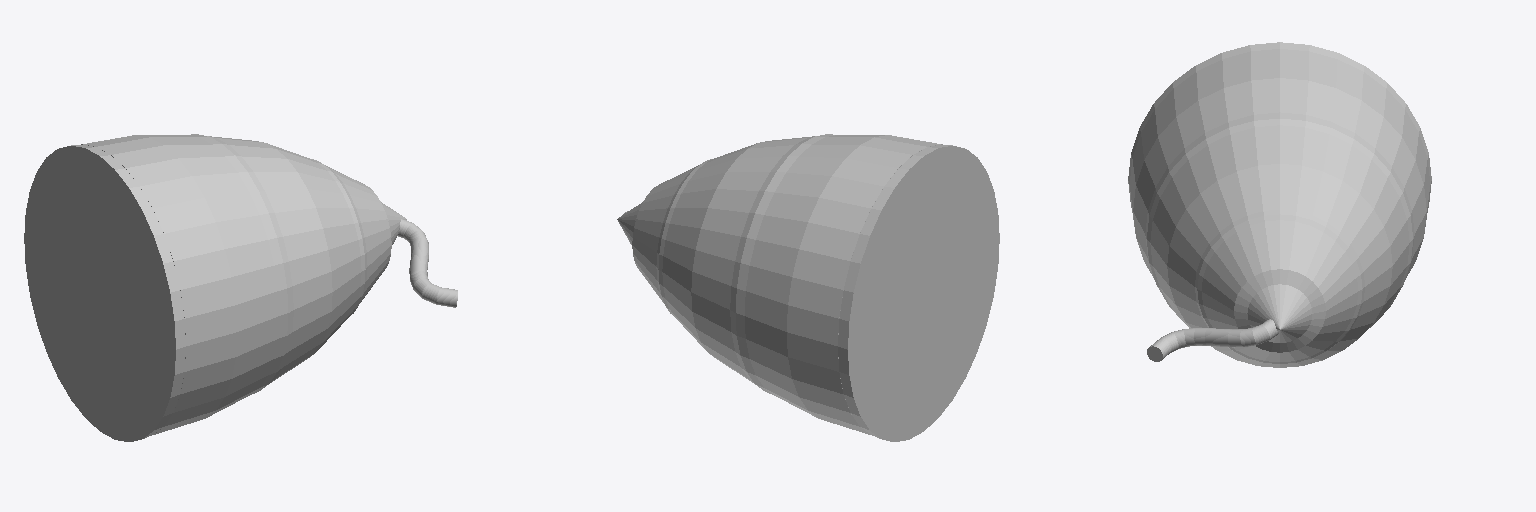
File: ShapedCharge.obj
3 renders of one model, left to right at view 1: azimuth 30°, elevation 25°; view 2: azimuth 150°, elevation 25°; view 3: azimuth 270°, elevation 25°, orthographic.
Visible parts, largest first — view 1: Shell, Cone_coll, Fuse; view 2: Shell, Cone_coll; view 3: Shell, Cone_coll, Fuse.
Part boxes in pixels (bbox=[...]): Shell: bbox=[81, 135, 391, 434]; Cone_coll: bbox=[24, 134, 406, 441]; Fuse: bbox=[398, 219, 457, 307]; Shell: bbox=[632, 135, 942, 434]; Cone_coll: bbox=[617, 134, 999, 441]; Shell: bbox=[1130, 49, 1429, 367]; Cone_coll: bbox=[1128, 42, 1431, 363]; Fuse: bbox=[1147, 319, 1278, 361].
Bounding box in the file's own units: 0.7107 × 0.6 × 0.6.